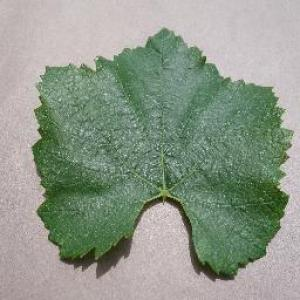Folha: (31, 26, 294, 279)
